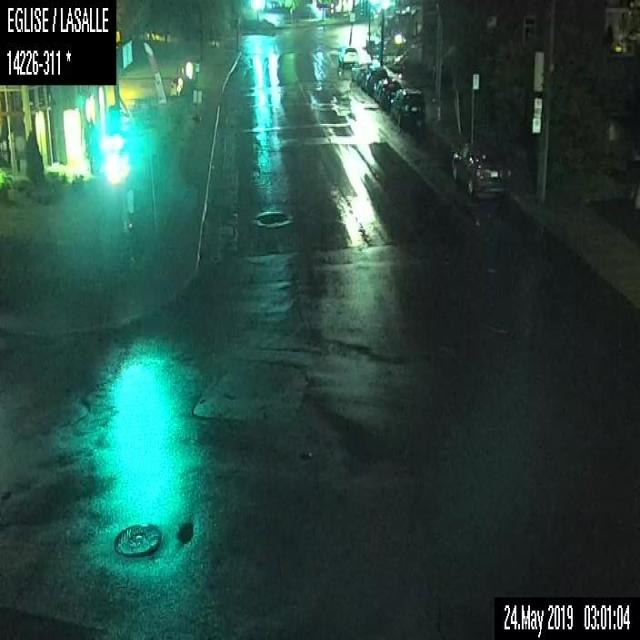vehicle: (448, 146, 510, 202), (389, 87, 425, 124), (374, 76, 402, 110), (361, 64, 389, 96), (350, 59, 371, 82), (337, 44, 358, 66)
